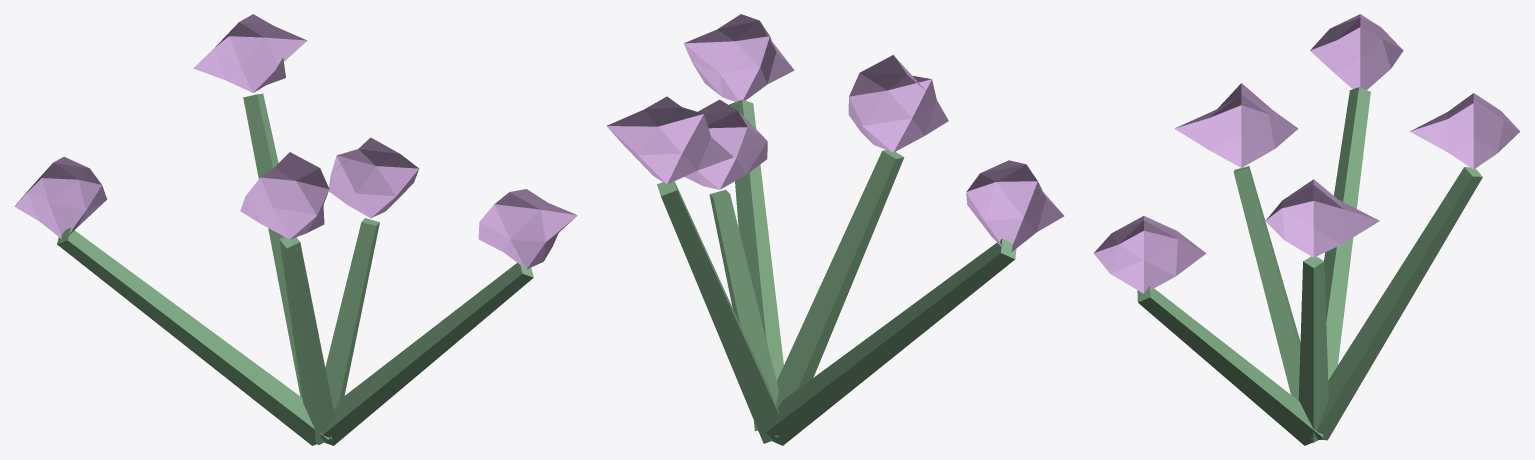
The model's file is flower_v15.glb.
The picture shows the model from 3 angles, left to right: view 1: azimuth 30°, elevation 25°; view 2: azimuth 150°, elevation 25°; view 3: azimuth 270°, elevation 25°; orthographic projection. The views are drawn at different scales.
Visible parts, largest first — view 1: lod0; view 2: lod0; view 3: lod0.
Part boxes in pixels (<box>): lod0: <box>14,14,577,445</box>; lod0: <box>606,14,1064,445</box>; lod0: <box>1093,14,1520,445</box>.
Size of what is drawn, in the model's own units: 0.5687 by 0.4409 by 0.4788.
